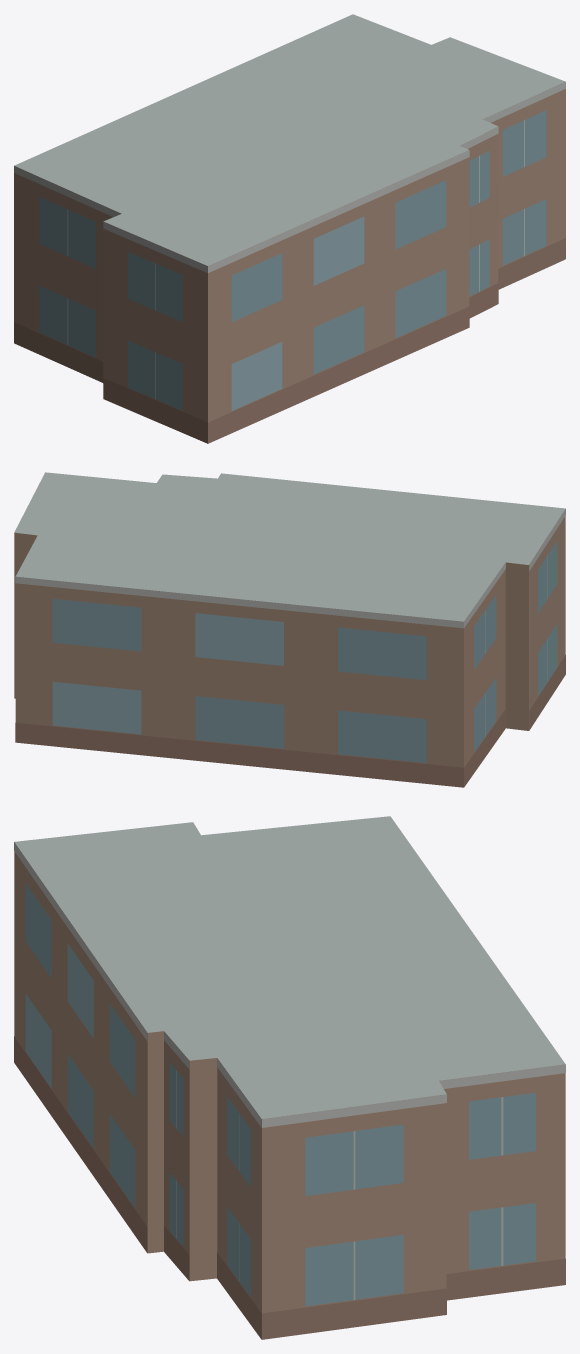
File: survey-upis-32870810.glb
3 renders of one model, top to bottom at view 1: azimuth 30°, elevation 25°; view 2: azimuth 150°, elevation 25°; view 3: azimuth 270°, elevation 25°, orthographic. The views are drawn at different scales.
Parts seen in each view (by area): view 1: survey-upis-32870810.tmp; view 2: survey-upis-32870810.tmp; view 3: survey-upis-32870810.tmp.
Boxes of the visible parts, x1,y1,x2,y2 form: survey-upis-32870810.tmp: (14,14,565,443); survey-upis-32870810.tmp: (14,472,565,787); survey-upis-32870810.tmp: (14,816,565,1339).
Bounding box in the file's own units: 17.98 × 6.1 × 13.83.
